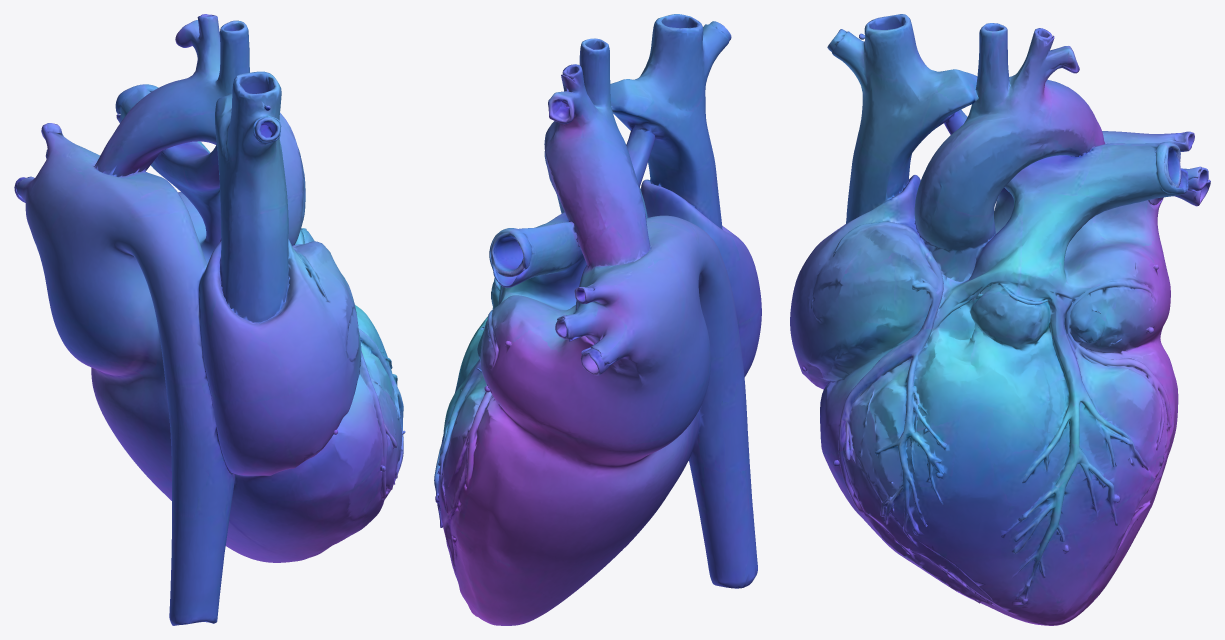
File: heart.glb
3 renders of one model, left to right at view 1: azimuth 30°, elevation 25°; view 2: azimuth 150°, elevation 25°; view 3: azimuth 270°, elevation 25°, orthographic.
Parts seen in each view (by area): view 1: tripo_node_c910fec3-d92b-4e66-94fe-7ea05e3d9082; view 2: tripo_node_c910fec3-d92b-4e66-94fe-7ea05e3d9082; view 3: tripo_node_c910fec3-d92b-4e66-94fe-7ea05e3d9082.
Part boxes in pixels (x1,y1,x2,y2): tripo_node_c910fec3-d92b-4e66-94fe-7ea05e3d9082: (14, 14, 405, 625); tripo_node_c910fec3-d92b-4e66-94fe-7ea05e3d9082: (434, 14, 761, 625); tripo_node_c910fec3-d92b-4e66-94fe-7ea05e3d9082: (790, 14, 1210, 625).
Bounding box in the file's own units: 0.4957 × 0.979 × 0.6624.
Materials: 1 (1 with a texture image).
